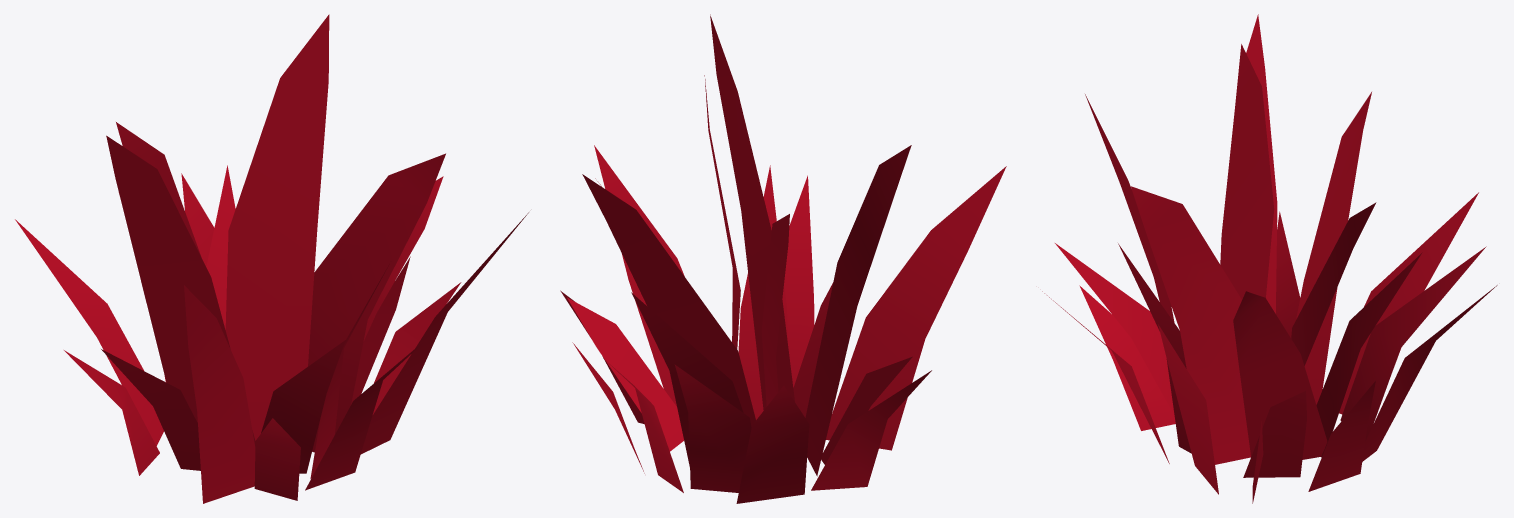
Rendered from Forest_Grass_01.obj.
3 renders of one model, left to right at view 1: azimuth 30°, elevation 25°; view 2: azimuth 150°, elevation 25°; view 3: azimuth 270°, elevation 25°, orthographic. The views are drawn at different scales.
Parts seen in each view (by area): view 1: Forest_Grass_01; view 2: Forest_Grass_01; view 3: Forest_Grass_01.
Part boxes in pixels (<box>): Forest_Grass_01: <box>15,14,528,503</box>; Forest_Grass_01: <box>560,14,1006,503</box>; Forest_Grass_01: <box>1042,14,1497,503</box>.
Bounding box in the file's own units: 0.3373 × 0.34 × 0.335.
